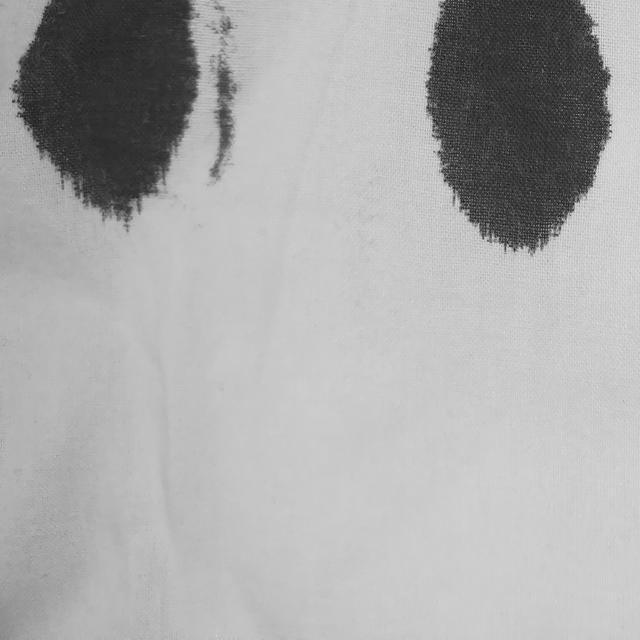Stain: (427, 0, 612, 251), (12, 0, 198, 222), (205, 1, 241, 188)
